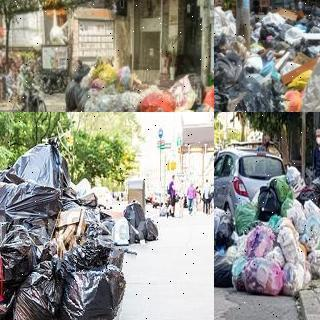Garbage: (55, 238, 132, 320), (11, 137, 75, 202), (0, 169, 66, 232), (8, 255, 70, 320), (0, 218, 39, 286), (238, 257, 286, 295), (244, 223, 277, 263), (231, 90, 289, 112), (298, 55, 320, 112), (274, 225, 304, 265), (255, 181, 282, 221), (282, 194, 308, 234), (136, 87, 177, 112), (214, 54, 242, 87), (214, 205, 237, 244), (294, 178, 320, 212), (214, 244, 235, 283), (299, 213, 320, 250), (304, 244, 320, 279)
